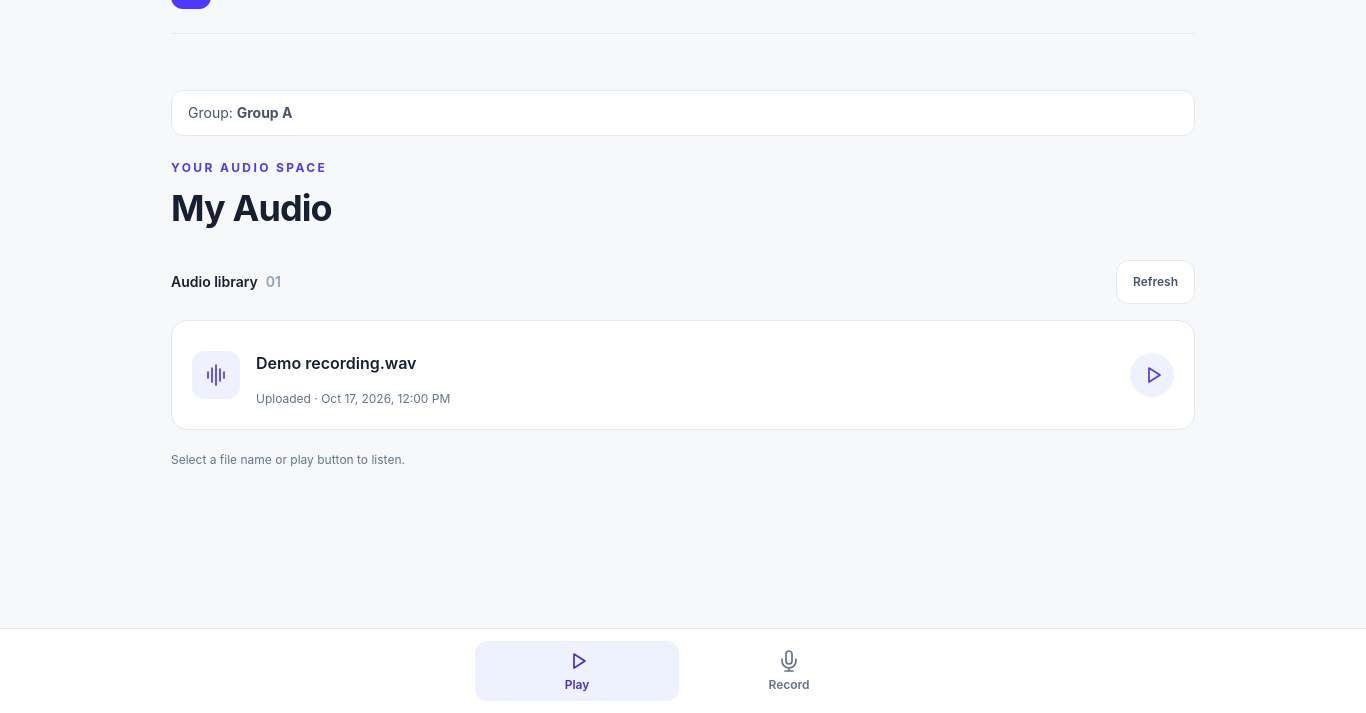
Test: Group recording, upload and Firestore playback integration › lists a manually registered Firestore document and plays its independent Storage path
What coordinates should you click on to do the following:
click the button named "Play Demo recording.wav"
I would click on:
 (1152, 375)
Its box is [1130,353,1174,397].
(page scrolled)
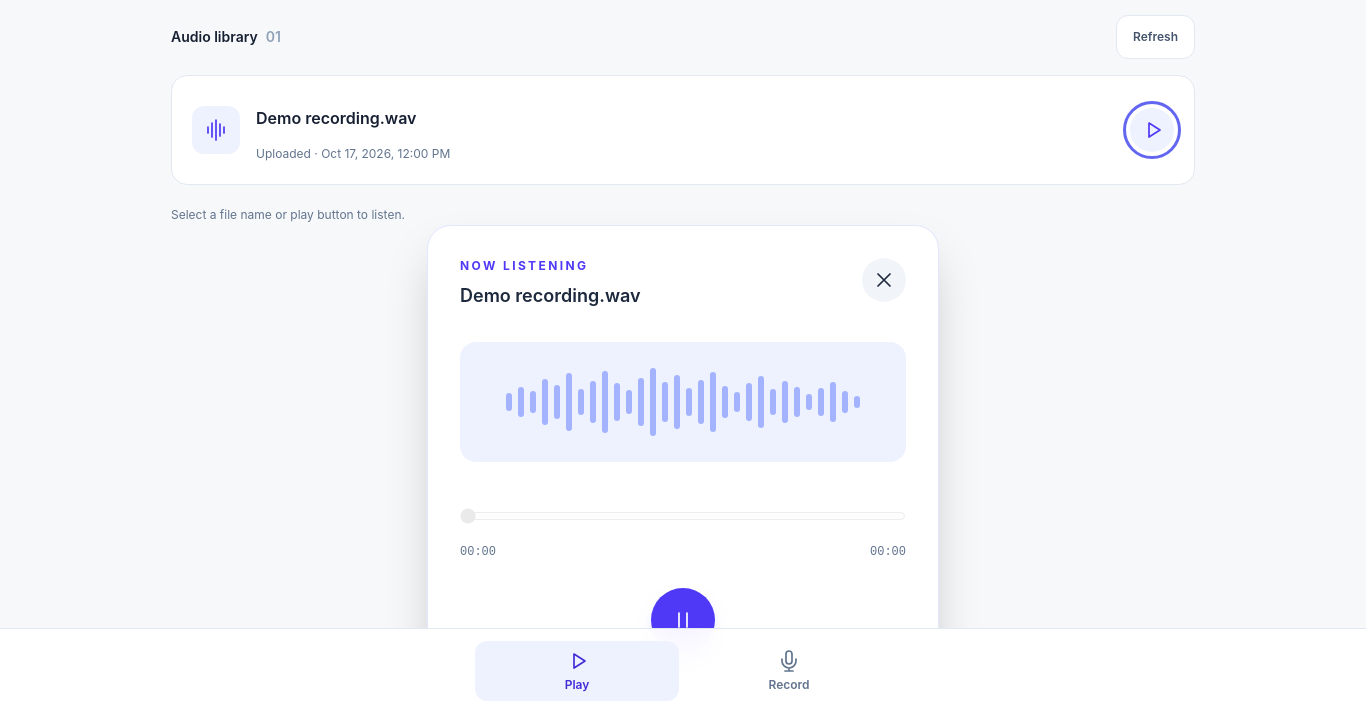
Check: the dialog "Demo recording.wav" is shown, box [427,225,939,712]
